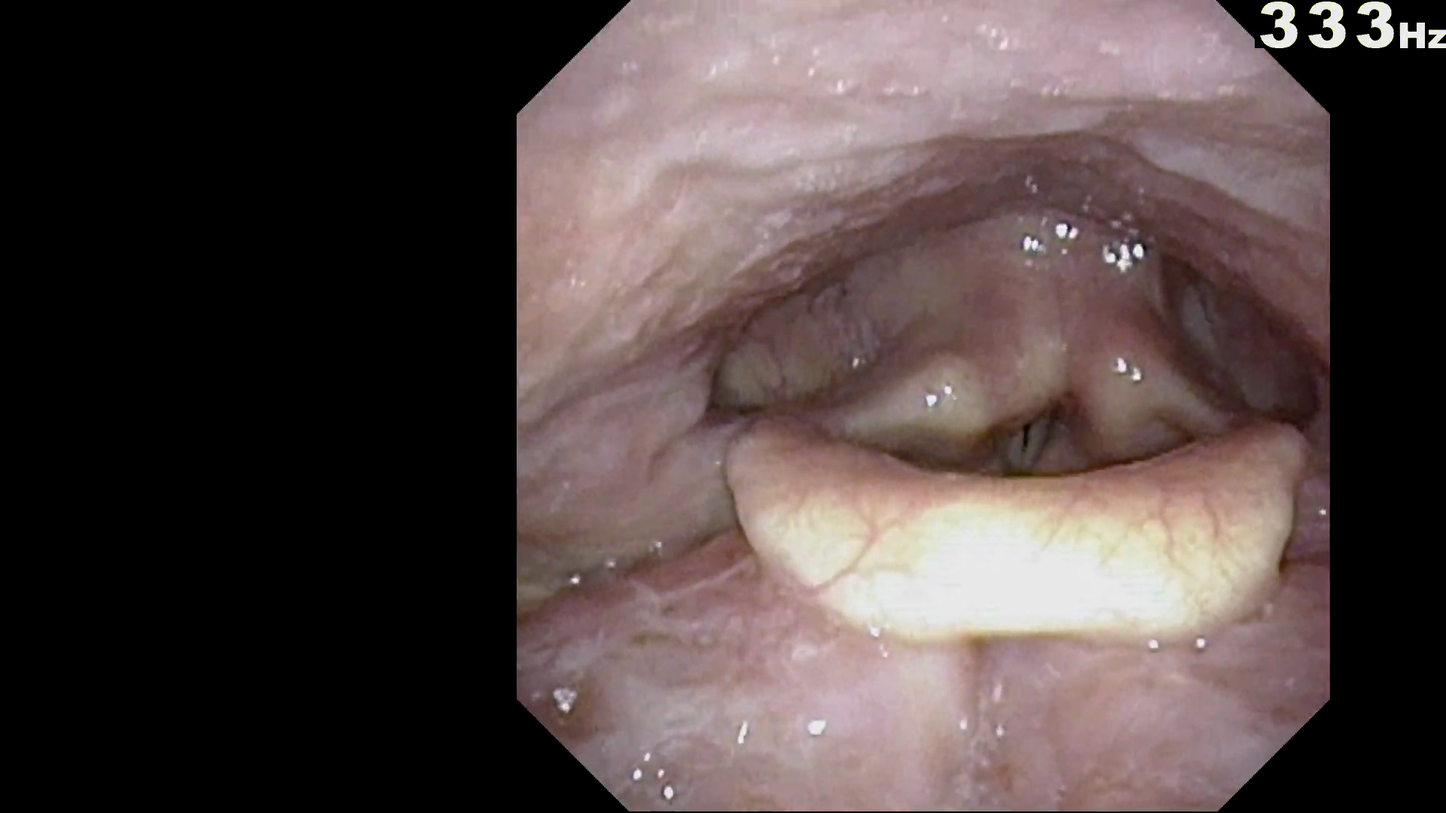epiglottis: (709, 399, 1314, 658)
trachea: (979, 384, 1073, 494)
